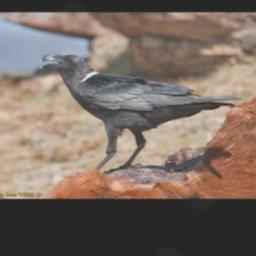Crow: (39, 50, 244, 174)
